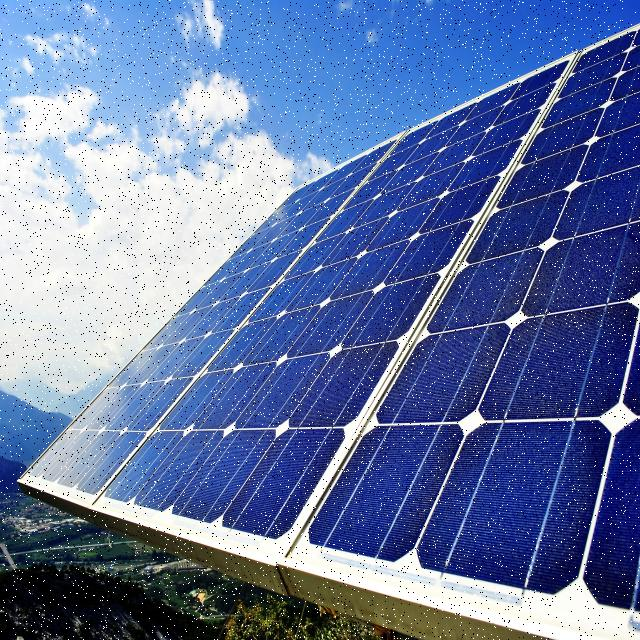clean: (38, 36, 638, 601)
